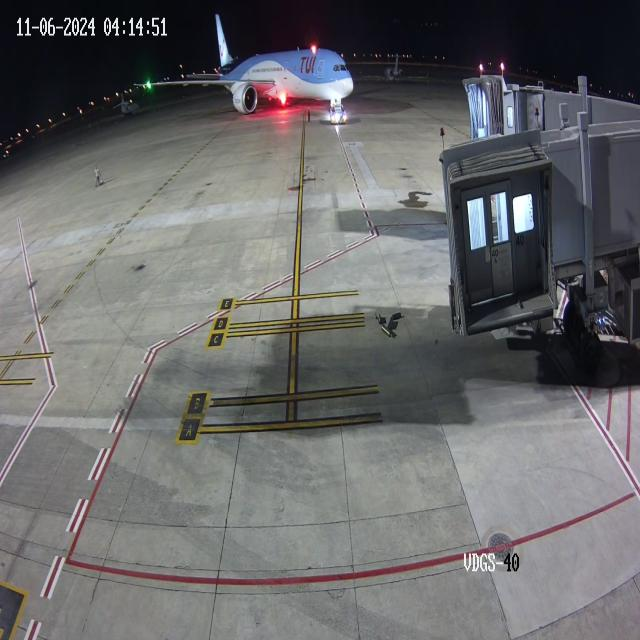bridge: (485, 72, 545, 140)
plane: (126, 0, 358, 125)
window: (331, 61, 350, 73)
